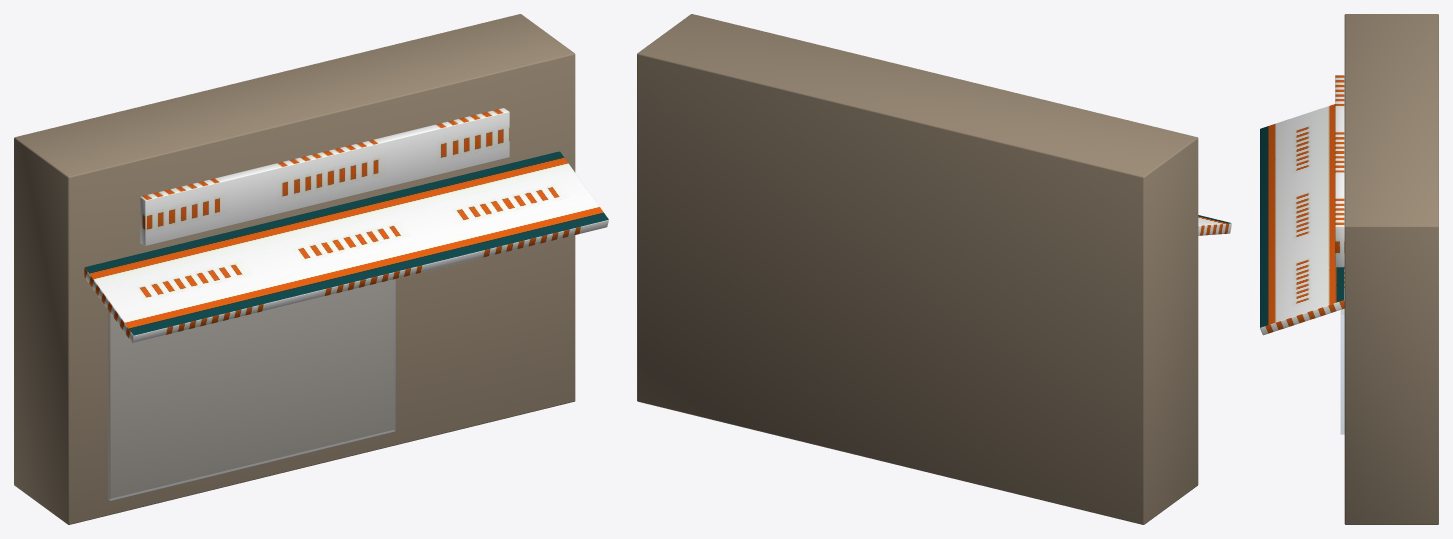
File: shop-bookshop-ed84636e5550.glb
3 renders of one model, left to right at view 1: azimuth 30°, elevation 25°; view 2: azimuth 150°, elevation 25°; view 3: azimuth 270°, elevation 25°, orthographic. The views are drawn at different scales.
Visible parts, largest first — view 1: Shell, Mesh_Awning_shopfront_bookshop_facade, Display_Glass; view 2: Shell; view 3: Shell, Mesh_Awning_shopfront_bookshop_facade, Display_Glass.
Boxes of the visible parts, <box> form: Shell: <box>14,14,575,524</box>; Mesh_Awning_shopfront_bookshop_facade: <box>84,108,608,342</box>; Display_Glass: <box>108,279,395,500</box>; Shell: <box>637,14,1198,524</box>; Shell: <box>1344,14,1438,524</box>; Mesh_Awning_shopfront_bookshop_facade: <box>1260,75,1344,335</box>; Display_Glass: <box>1340,309,1344,434</box>.
Bounding box in the file's own units: 6.4 × 4.2 × 2.28.
Materials: 4 (3 with a texture image).
